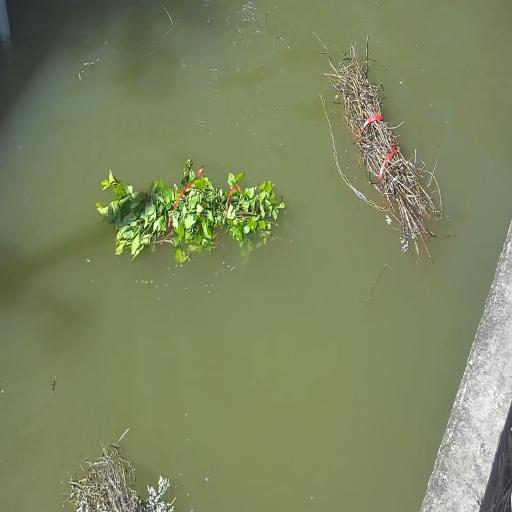twig: (321, 46, 448, 257), (95, 158, 286, 263), (65, 430, 174, 512)
